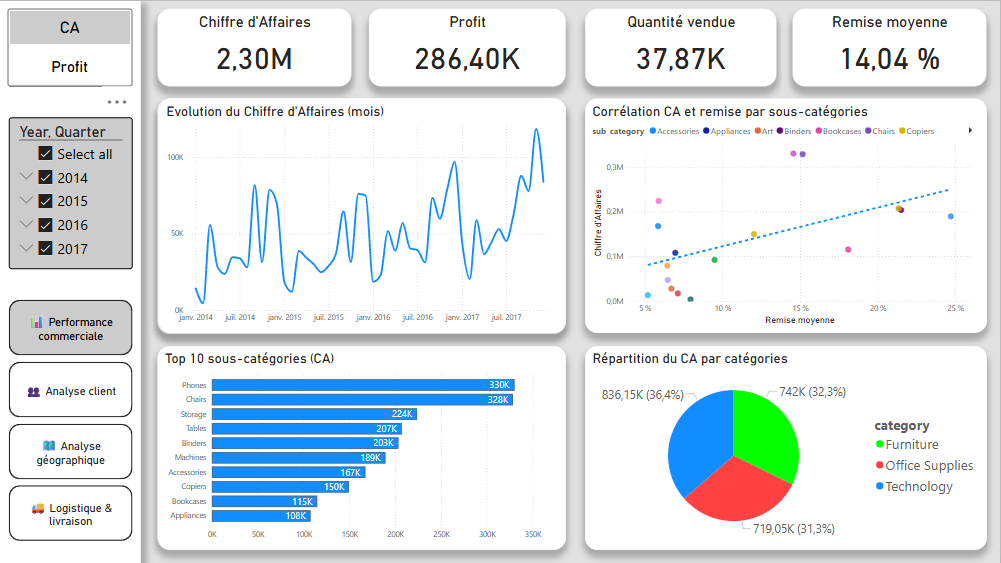

The page's visual inventory and layout, read from the dashboard file:
{"tool":"powerbi","page":{"name":"📊 Performance commerciale","canvas":[1600,900],"ordinal":0},"visuals":[{"type":"shape","box":[0,0,225,900],"z":0},{"type":"pageNavigator","box":[13.3,478.3,198.3,388.3],"z":1000},{"type":"slicer","fields":{"Values":["Calendar.Date.Variation.Date Hierarchy.Year"]},"box":[13.3,185,198.3,243.3],"z":2000},{"type":"card","title":"Chiffre d''Affaires","fields":{"Values":["Sum(fact_order_details.sales)"]},"box":[251.7,11.7,310,125],"z":3000},{"type":"card","title":"Profit","fields":{"Values":["Sum(fact_order_details.profit)"]},"box":[590,11.7,315,125],"z":4000},{"type":"card","title":"Quantité vendue","fields":{"Values":["Sum(fact_order_details.quantity)"]},"box":[935,11.7,306.7,125],"z":5000},{"type":"card","title":"Remise moyenne","fields":{"Values":["Table.Average_Discount"]},"box":[1268.3,11.7,310,125],"z":6000},{"type":"clusteredBarChart","title":"Top 10 sous-catégories (CA)","fields":{"Category":["dim_products.sub_category"],"Y":["Sum(fact_order_details.sales)"]},"box":[251.7,551.7,653.3,326.7],"z":7000},{"type":"lineChart","title":"Evolution du Profit (mois)","fields":{"Category":["Calendar.Date.Variation.Date Hierarchy.Year","Calendar.Date.Variation.Date Hierarchy.Month"],"Y":["Sum(fact_order_details.profit)"]},"box":[251.7,155,653.3,376.7],"z":9000},{"type":"lineChart","title":"Evolution du Chiffre d''Affaires (mois)","fields":{"Y":["Sum(fact_order_details.sales)"],"Category":["Calendar.Date.Variation.Date Hierarchy.Year","Calendar.Date.Variation.Date Hierarchy.Month"]},"box":[253.4,156.8,651.5,375.5],"z":10000},{"type":"scatterChart","title":"Corrélation CA et remise par sous-catégories","fields":{"Series":["dim_products.sub_category"],"Y":["Sum(fact_order_details.sales)"],"X":["Table.Average_Discount"]},"box":[935,156.7,643.3,375],"z":11000},{"type":"bookmarkNavigator","box":[11.7,11.7,200,125],"z":13000},{"type":"pieChart","title":"Répartition du CA par catégories","fields":{"Y":["Sum(fact_order_details.sales)"],"Category":["dim_products.category"]},"box":[935,551.7,643.3,326.7],"z":14000}]}

Visuals, with their boxes in screenshot pixels (x1, y1, x2, y2), scaled from the page's 1600x900 canvas onto the 1001x563 screenshot:
shape: <box>0,0,141,562</box>
pageNavigator: <box>8,299,132,542</box>
slicer - Calendar.Date.Variation.Date Hierarchy.Year: <box>8,116,132,268</box>
"Chiffre d''Affaires" card: <box>157,7,351,86</box>
"Profit" card: <box>369,7,566,86</box>
"Quantité vendue" card: <box>585,7,777,86</box>
"Remise moyenne" card: <box>793,7,987,86</box>
"Top 10 sous-catégories (CA)" clusteredBarChart: <box>157,345,566,549</box>
"Evolution du Profit (mois)" lineChart: <box>157,97,566,333</box>
"Evolution du Chiffre d''Affaires (mois)" lineChart: <box>159,98,566,333</box>
"Corrélation CA et remise par sous-catégories" scatterChart: <box>585,98,987,333</box>
bookmarkNavigator: <box>7,7,132,86</box>
"Répartition du CA par catégories" pieChart: <box>585,345,987,549</box>
